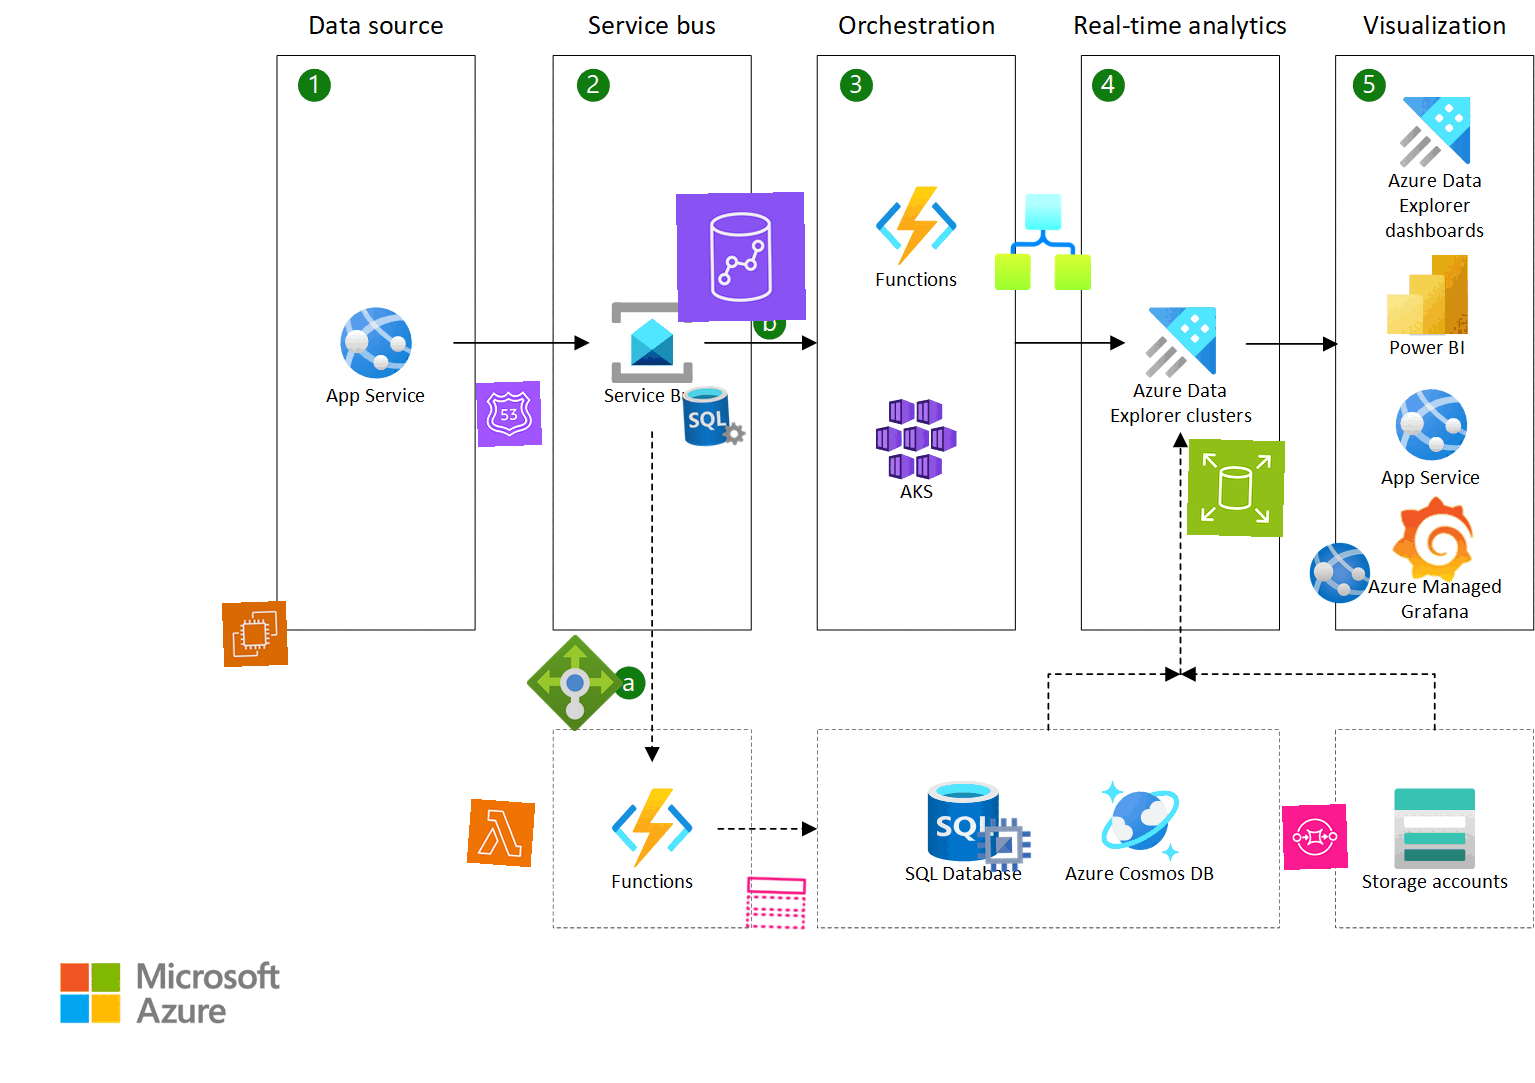aws_amazon_ec2: (221, 600, 289, 668)
aws_amazon_elastic_block_store: (1186, 438, 1285, 538)
aws_amazon_redshift: (676, 192, 806, 322)
aws_amazon_route_53: (475, 380, 543, 448)
aws_amazon_simple_queue_service: (1281, 803, 1349, 871)
aws_lambda: (466, 798, 535, 869)
aws_simple_notification_service_topic: (742, 869, 810, 936)
azure_app_services: (1307, 540, 1373, 606)
azure_load_balancers: (526, 634, 625, 733)
azure_logic_apps: (994, 193, 1092, 291)
azure_sql_server: (680, 382, 748, 450)
gcp_compute_engine: (971, 812, 1037, 878)
